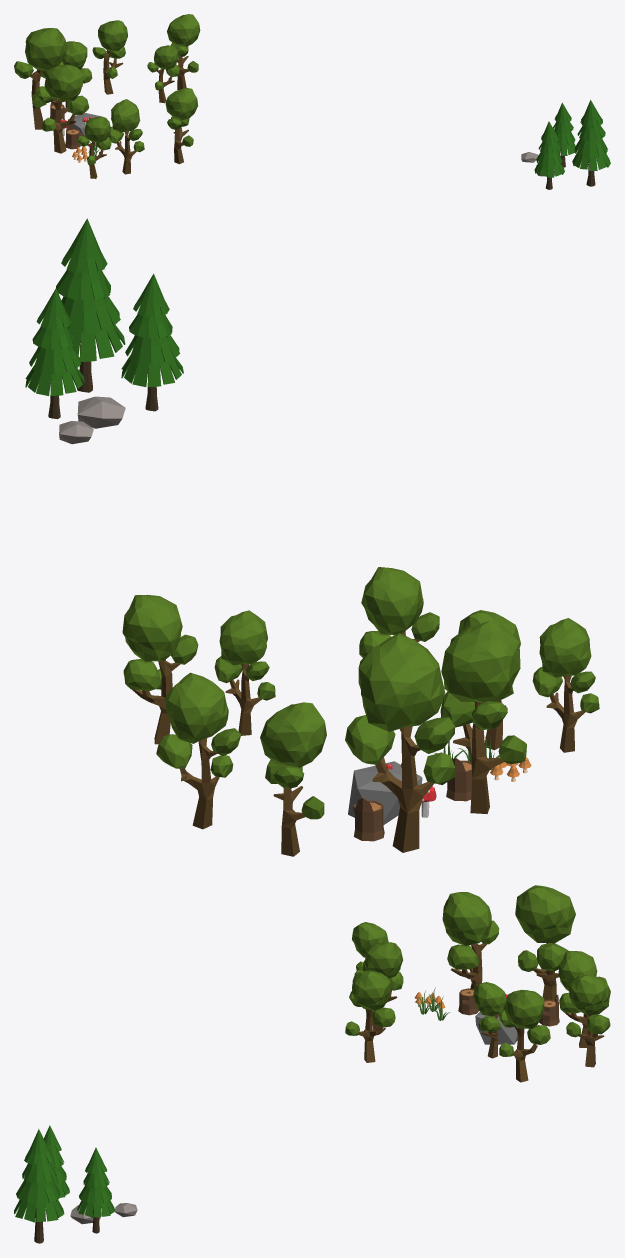
File: skog.gltf
3 views of the same model, one above another, from view 1: azimuth 30°, elevation 25°; view 2: azimuth 150°, elevation 25°; view 3: azimuth 270°, elevation 25° (orthographic). The views are drawn at different scales.
Visible parts, largest first — view 1: Tree1, Tree1.002, Tree2, Tree1.005, Tree1.004, Tree1.008, Tree1.006, Tree2.002, Tree1.001, Tree1.007, Tree2.001, Tree1.003 (+1 smaller); view 2: Tree1.002, Tree1, Tree1.004, Tree2, Tree1.006, Tree1.003, Tree1.001, Tree2.002, Tree1.008, Tree1.007, Tree2.001, Rock1 (+4 smaller); view 3: Tree1.002, Tree1, Tree2, Tree1.006, Tree1.008, Tree1.004, Tree2.001, Tree1.003, Tree1.007, Tree1.005, Tree1.001, Tree2.002 (+1 smaller).
Boxes of the visible parts, box(x1,y1,x2,y2) form: Tree1: box(36, 64, 89, 153); Tree1.002: box(14, 28, 66, 129); Tree2: box(572, 100, 610, 186); Tree1.005: box(108, 99, 144, 174); Tree1.004: box(92, 20, 127, 94); Tree1.008: box(165, 88, 198, 164); Tree1.006: box(167, 14, 200, 89); Tree2.002: box(534, 121, 564, 189); Tree1.001: box(77, 116, 111, 178); Tree1.007: box(147, 45, 180, 103); Tree2.001: box(553, 102, 575, 167); Tree1.003: box(62, 41, 92, 112); Tree1.002: box(345, 633, 455, 852); Tree1: box(440, 620, 526, 814); Tree1.004: box(156, 672, 241, 829); Tree2: box(56, 218, 125, 392); Tree1.006: box(122, 594, 198, 744); Tree1.003: box(260, 702, 326, 856); Tree1.001: box(532, 618, 599, 752); Tree2.002: box(121, 273, 183, 411); Tree1.008: box(359, 567, 439, 657); Tree1.007: box(214, 610, 275, 735); Tree2.001: box(25, 288, 84, 419); Rock1: box(348, 761, 422, 825); Tree1.002: box(515, 885, 575, 1000); Tree1: box(442, 892, 499, 989); Tree2: box(14, 1129, 64, 1243); Tree1.006: box(499, 989, 550, 1082); Tree1.008: box(345, 970, 395, 1062); Tree1.004: box(566, 974, 610, 1067); Tree2.001: box(77, 1147, 114, 1233); Tree1.003: box(558, 951, 607, 1047); Tree1.007: box(473, 982, 506, 1058); Tree1.005: box(354, 942, 403, 1030); Tree1.001: box(352, 922, 388, 971); Tree2.002: box(43, 1125, 69, 1197).
Size of the model in its own units: 2 by 0.4977 by 1.98.
